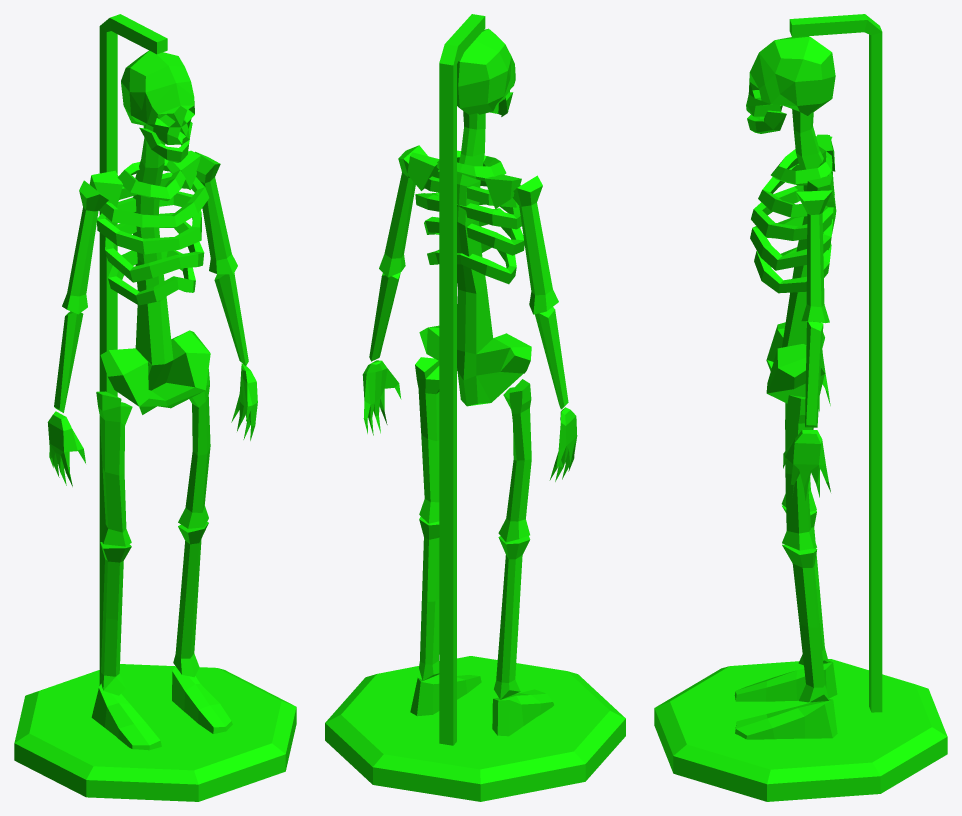
The model's file is _08_skeleton.fbx.
The picture shows the model from 3 angles, left to right: view 1: azimuth 30°, elevation 25°; view 2: azimuth 150°, elevation 25°; view 3: azimuth 270°, elevation 25°; orthographic projection. The views are drawn at different scales.
Parts seen in each view (by area): view 1: _08_skeleton; view 2: _08_skeleton; view 3: _08_skeleton.
Part boxes in pixels (bbox=[...]): _08_skeleton: bbox=[14, 14, 296, 801]; _08_skeleton: bbox=[325, 14, 625, 801]; _08_skeleton: bbox=[654, 14, 947, 801].
Bounding box in the file's own units: 0.7428 × 2.01 × 0.7428.
